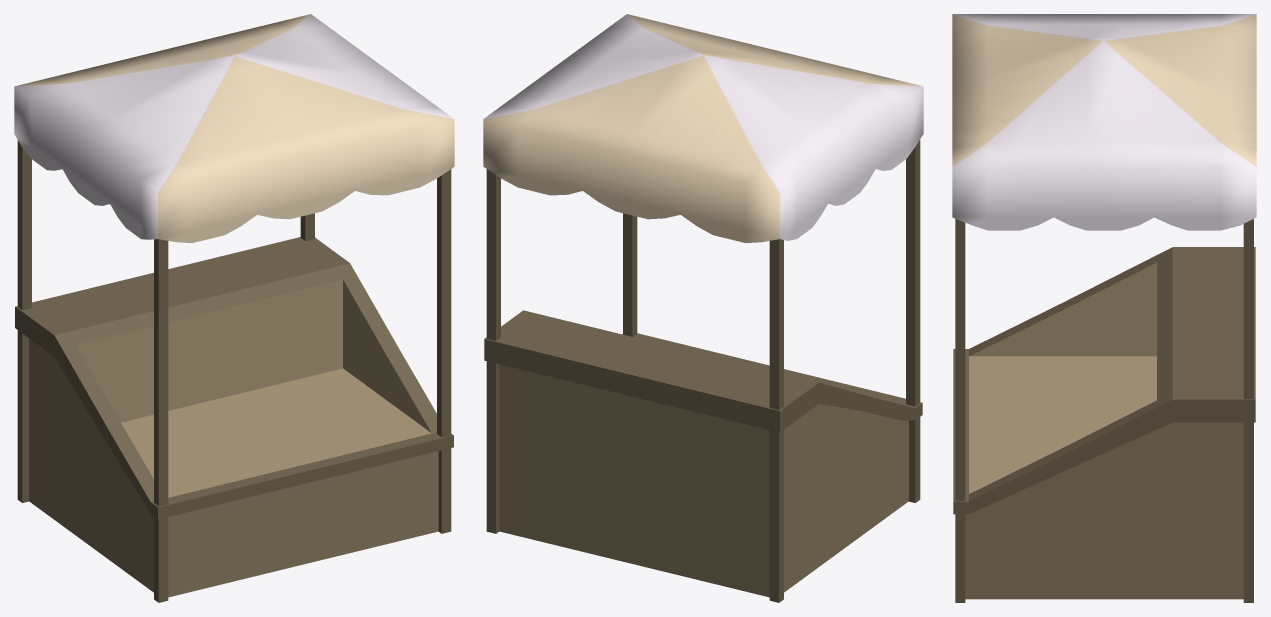
File: DairyStall.fbx
3 views of the same model, side by side, from view 1: azimuth 30°, elevation 25°; view 2: azimuth 150°, elevation 25°; view 3: azimuth 270°, elevation 25° (orthographic). The views are drawn at different scales.
Parts seen in each view (by area): view 1: DairyStall, DairyStall_Top; view 2: DairyStall, DairyStall_Top; view 3: DairyStall, DairyStall_Top.
Part boxes in pixels (x1,y1,x2,y2): DairyStall: (15, 140, 453, 602); DairyStall_Top: (14, 14, 454, 242); DairyStall: (484, 139, 922, 602); DairyStall_Top: (483, 14, 923, 242); DairyStall: (953, 219, 1255, 602); DairyStall_Top: (952, 14, 1256, 230).
Bounding box in the file's own units: 26.69 × 39.56 × 22.38.
4 materials, 1 textured.
